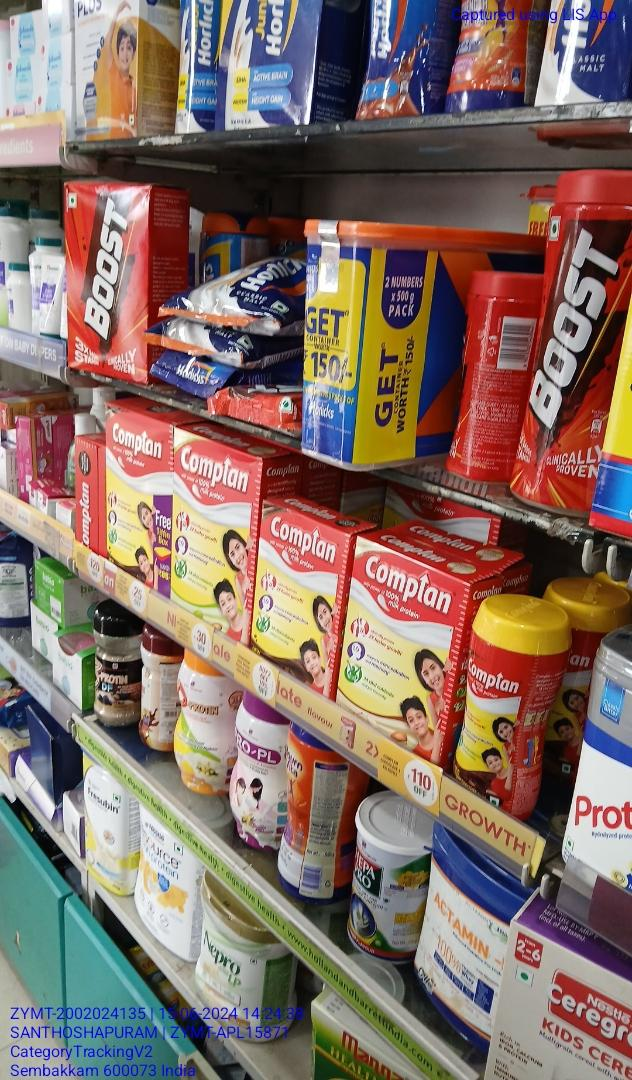COMPLAN_CHOCOLATE_200_GMS_PACK: (257, 504, 340, 684)
COMPLAN_CHOCOLATE_500_GMS_PACK: (103, 413, 172, 585)
COMPLAN_KESAR_BADAM_200_GMS_PACK: (344, 544, 456, 755)
COMPLAN_PISTA_BADAM_500_GMS_PACK: (175, 434, 254, 629)
